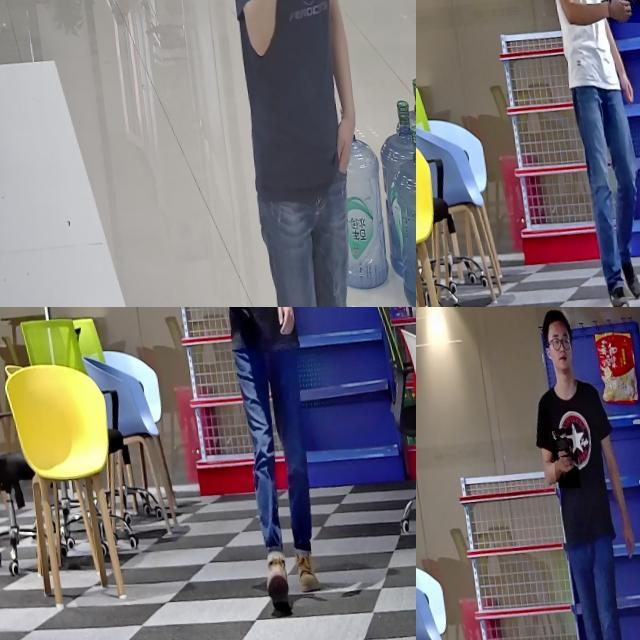gun-knife-thesis - v11 Yolov5 augmented: (221, 0, 295, 65), (546, 426, 576, 486), (213, 307, 255, 338), (600, 0, 640, 23)
